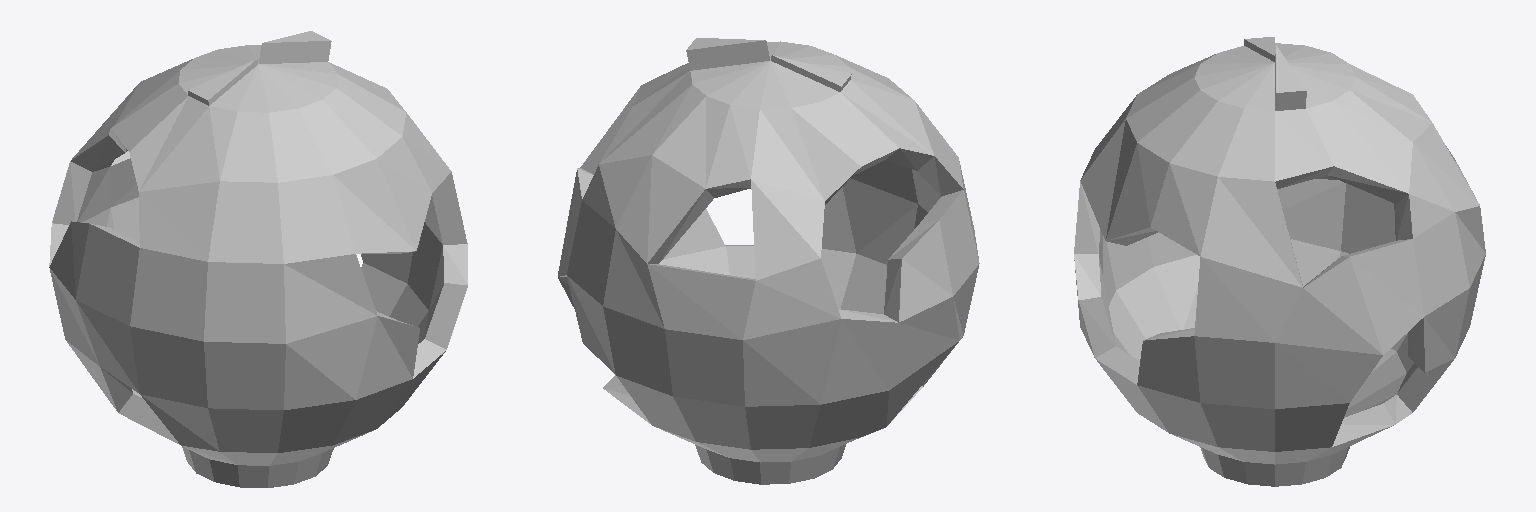
Rendered from brittle_hollow_hologram.obj.
The picture shows the model from 3 angles: view 1: azimuth 30°, elevation 25°; view 2: azimuth 150°, elevation 25°; view 3: azimuth 270°, elevation 25°; orthographic projection.
Visible parts, largest first — view 1: Brottle_Hilliw; view 2: Brottle_Hilliw; view 3: Brottle_Hilliw.
Boxes of the visible parts, box(x1,y1,x2,y2) form: Brottle_Hilliw: box(49, 31, 467, 487); Brottle_Hilliw: box(558, 38, 979, 484); Brottle_Hilliw: box(1074, 37, 1485, 486).
Size of the model in its own units: 2.27 by 2.53 by 2.21.